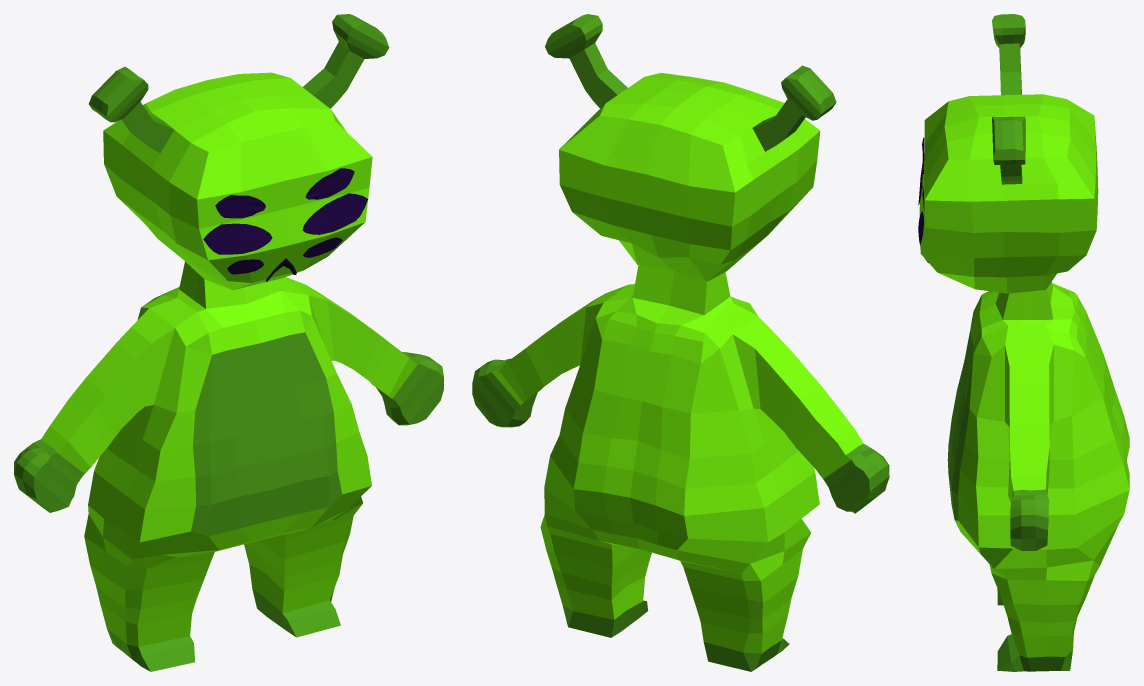
File: Alienblend.fbx
3 views of the same model, side by side, from view 1: azimuth 30°, elevation 25°; view 2: azimuth 150°, elevation 25°; view 3: azimuth 270°, elevation 25° (orthographic). The views are drawn at different scales.
Parts seen in each view (by area): view 1: Cube.001; view 2: Cube.001; view 3: Cube.001.
Part boxes in pixels (x1,y1,x2,y2): Cube.001: (14,14,443,671); Cube.001: (472,14,889,671); Cube.001: (918,14,1129,671).
Size of the model in its own units: 230 by 312 by 107.
